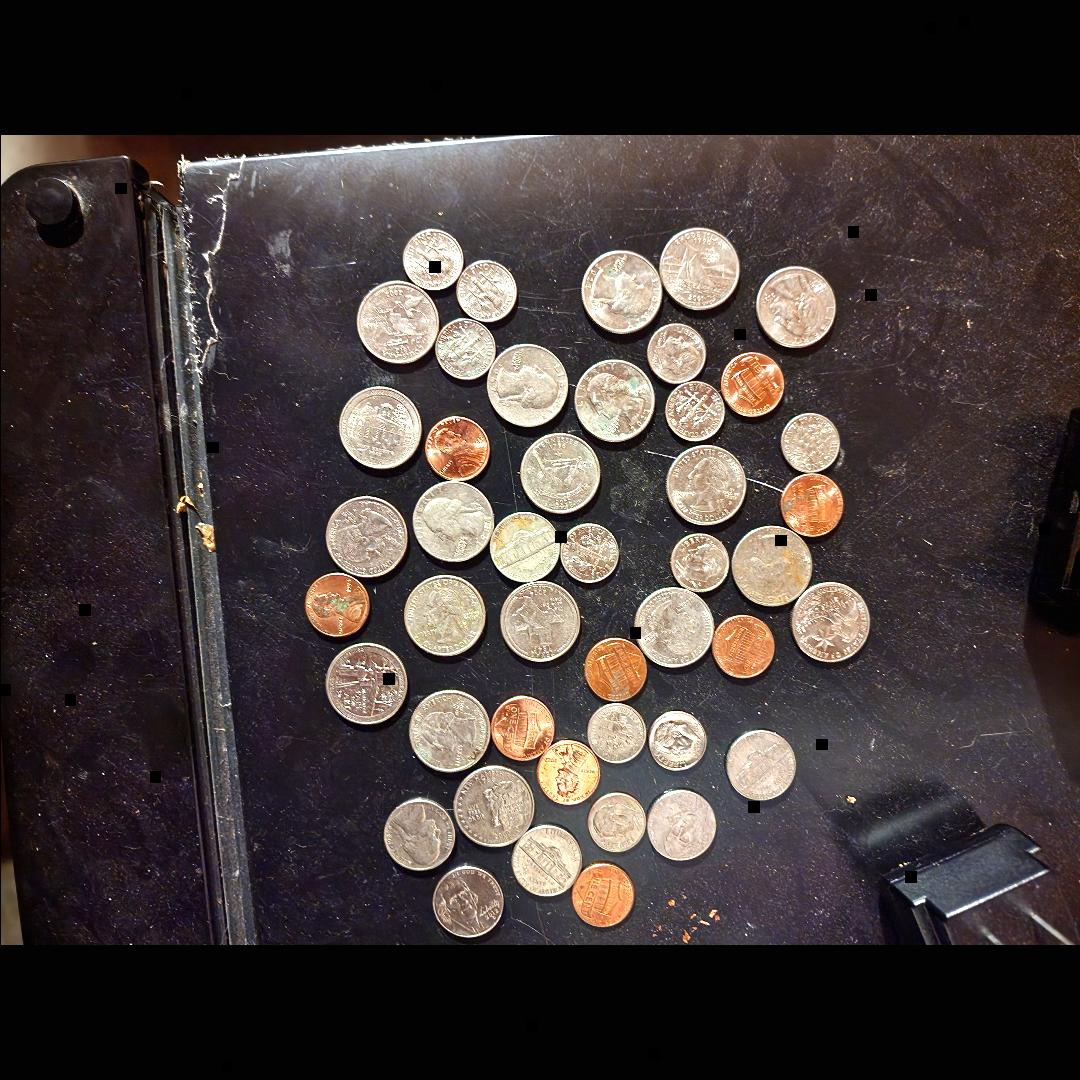Dime: (665, 378, 723, 440), (650, 325, 708, 387), (673, 532, 731, 594), (561, 521, 619, 583), (783, 412, 841, 474), (459, 260, 517, 322), (402, 228, 460, 290), (438, 317, 496, 379), (647, 711, 705, 773), (589, 702, 647, 764), (585, 789, 643, 851)
Nickel: (431, 864, 505, 942), (724, 728, 796, 802), (511, 823, 579, 899), (384, 799, 454, 871), (650, 791, 718, 859), (494, 514, 558, 578)
Penny: (572, 864, 634, 926), (712, 617, 774, 678), (491, 697, 549, 759), (784, 472, 842, 534), (724, 354, 782, 416), (430, 418, 488, 480), (308, 574, 366, 636), (539, 742, 597, 804), (588, 637, 646, 699)
Quarter: (454, 766, 532, 848), (793, 583, 871, 665), (328, 498, 408, 576), (410, 692, 490, 770), (404, 574, 482, 654), (500, 583, 578, 663), (573, 361, 653, 439), (660, 230, 740, 308), (731, 528, 811, 606), (488, 348, 566, 426), (358, 284, 436, 362), (342, 388, 418, 468), (414, 484, 490, 564), (668, 444, 744, 524), (757, 268, 834, 346), (582, 253, 659, 331), (328, 645, 402, 721), (638, 587, 712, 663), (522, 433, 596, 509)
